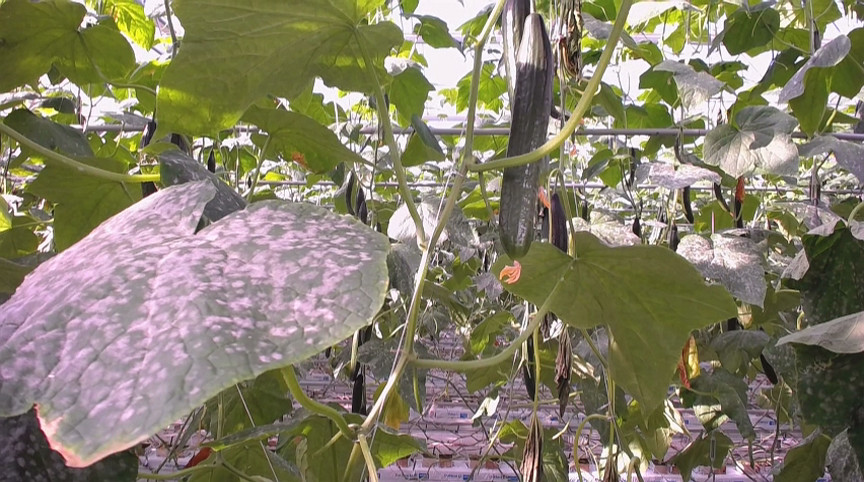cucumber: (500, 15, 555, 260)
